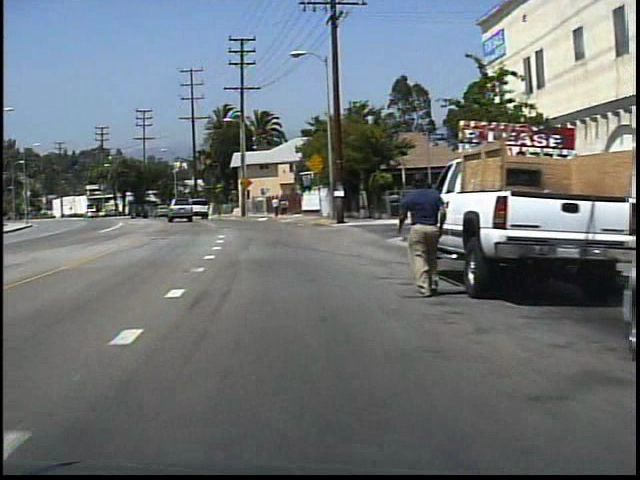person: (389, 166, 444, 297), (271, 195, 281, 219), (279, 197, 289, 218)
